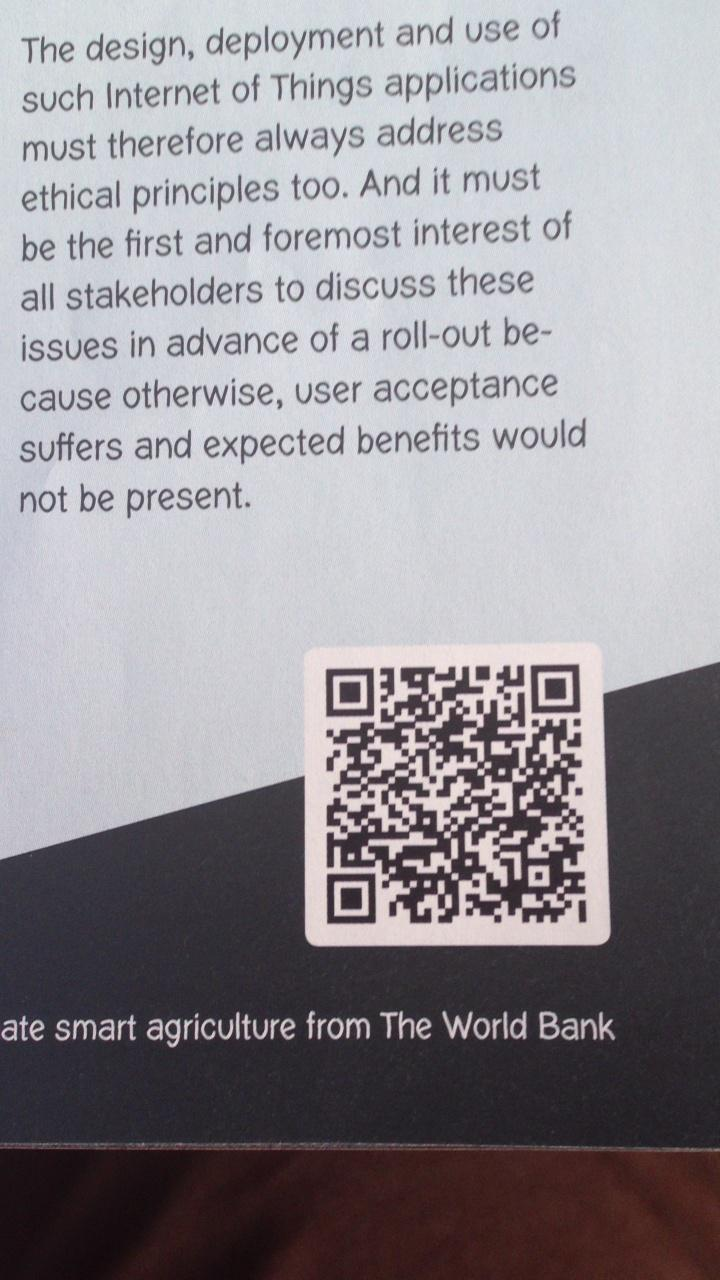qr_code: (325, 664, 587, 923)
